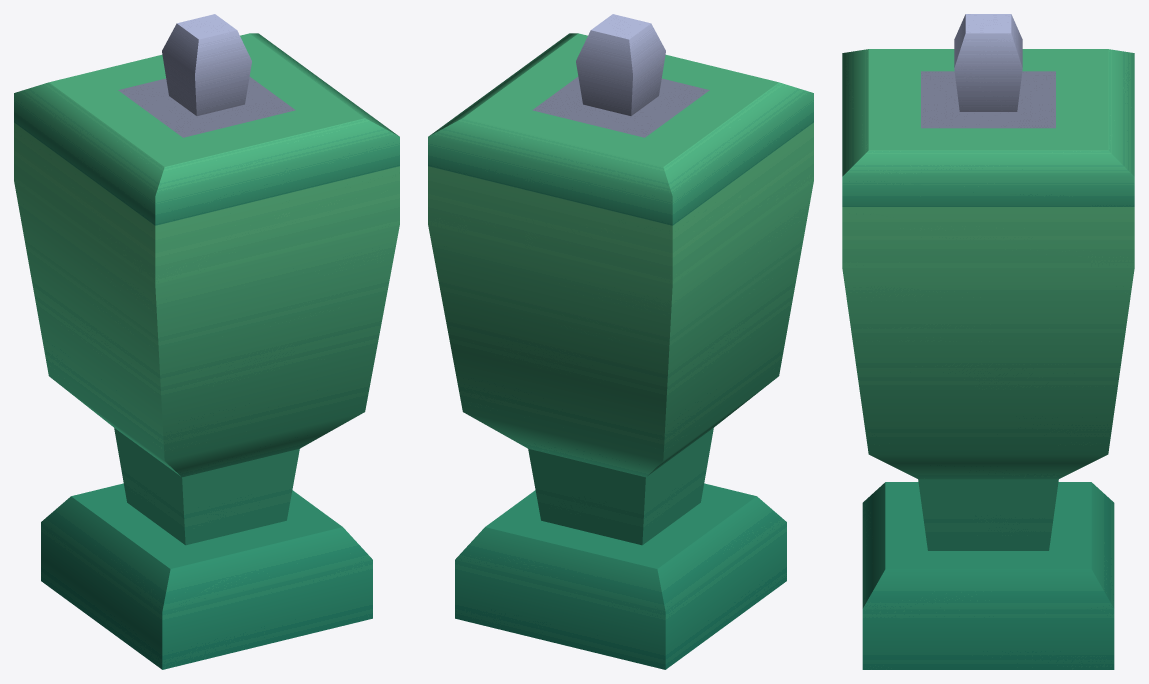
Rendered from urn.glb.
3 renders of one model, left to right at view 1: azimuth 30°, elevation 25°; view 2: azimuth 150°, elevation 25°; view 3: azimuth 270°, elevation 25°, orthographic. The views are drawn at different scales.
Parts seen in each view (by area): view 1: urn, lid; view 2: urn, lid; view 3: urn, lid.
Boxes of the visible parts, x1,y1,x2,y2 form: urn: (14, 122, 399, 669); lid: (14, 14, 399, 225); urn: (428, 122, 813, 669); lid: (428, 14, 813, 225); urn: (842, 207, 1134, 669); lid: (842, 14, 1134, 206).
Size of the model in its own units: 0.1742 by 0.39 by 0.1742.
1 material, 1 textured.
